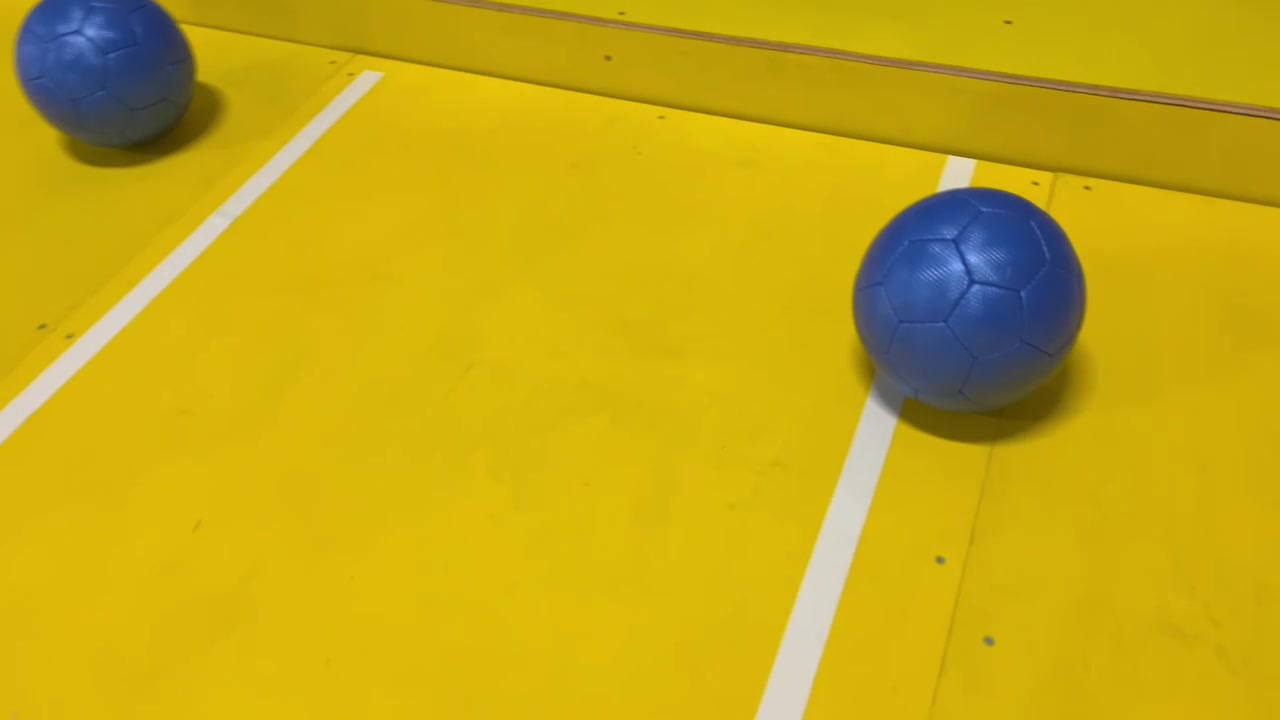blue: (848, 191, 1096, 420), (15, 0, 214, 167)
